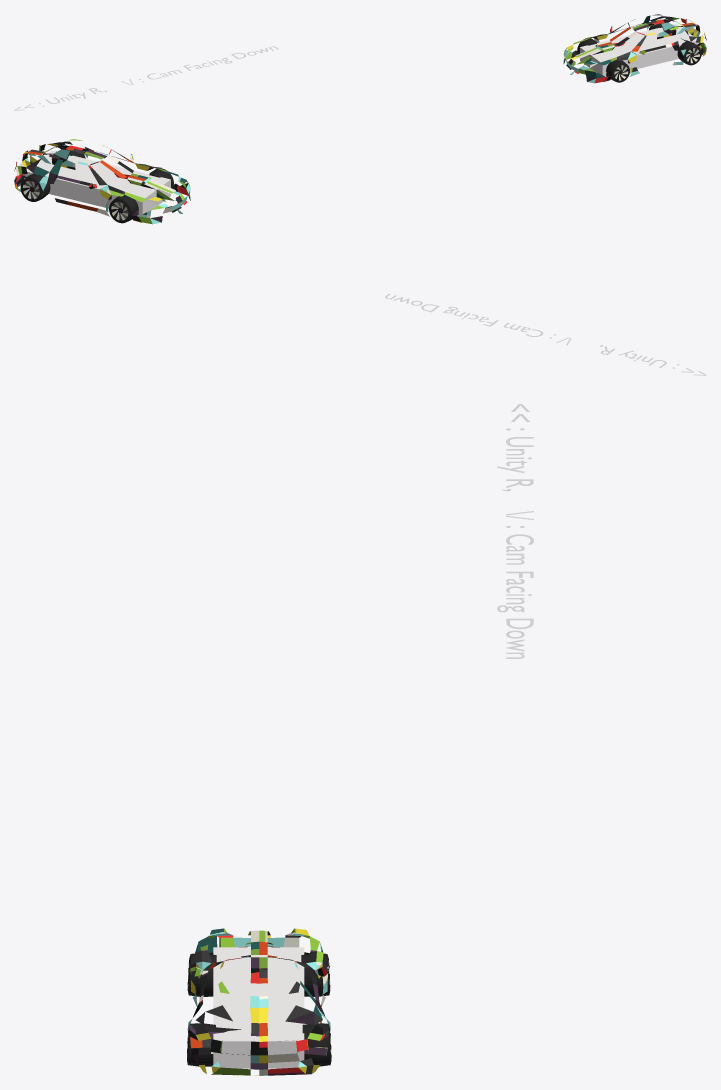
Rendered from Intro Car v1.2 Deleting UVs take 2.fbx.
3 renders of one model, top to bottom at view 1: azimuth 30°, elevation 25°; view 2: azimuth 150°, elevation 25°; view 3: azimuth 270°, elevation 25°, orthographic. The views are drawn at different scales.
Parts seen in each view (by area): view 1: Car, Cube, Text, Back R, Front R; view 2: Car, Cube, Text, Front L, Back L; view 3: Car, Cube, Text.
Boxes of the visible parts, <box> form: Car: <box>563,14,706,83</box>; Cube: <box>580,23,698,76</box>; Text: <box>14,46,278,110</box>; Back R: <box>677,41,701,65</box>; Front R: <box>606,59,629,82</box>; Car: <box>14,139,190,224</box>; Cube: <box>24,150,170,215</box>; Text: <box>384,294,706,375</box>; Front L: <box>109,195,138,223</box>; Back L: <box>20,173,50,201</box>; Car: <box>187,928,330,1075</box>; Cube: <box>213,947,304,1068</box>; Text: <box>497,404,533,658</box>.
Size of the model in its own units: 2050 by 126 by 498.
5 materials, 4 textured.
